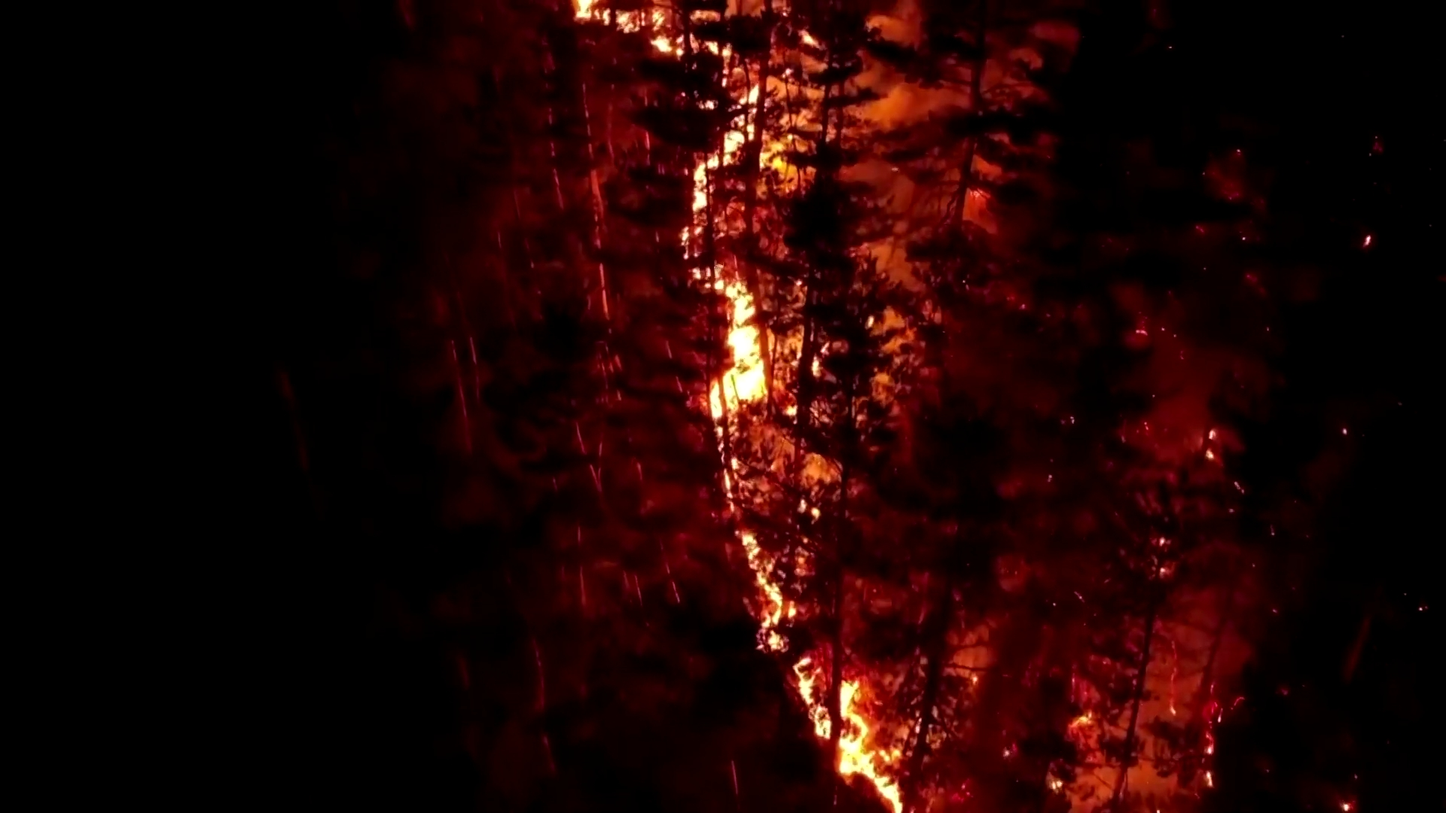forest_fire: (694, 260, 770, 512), (791, 655, 901, 812), (680, 120, 762, 248), (738, 526, 796, 650), (607, 0, 691, 56), (743, 75, 770, 104), (578, 0, 602, 20)
